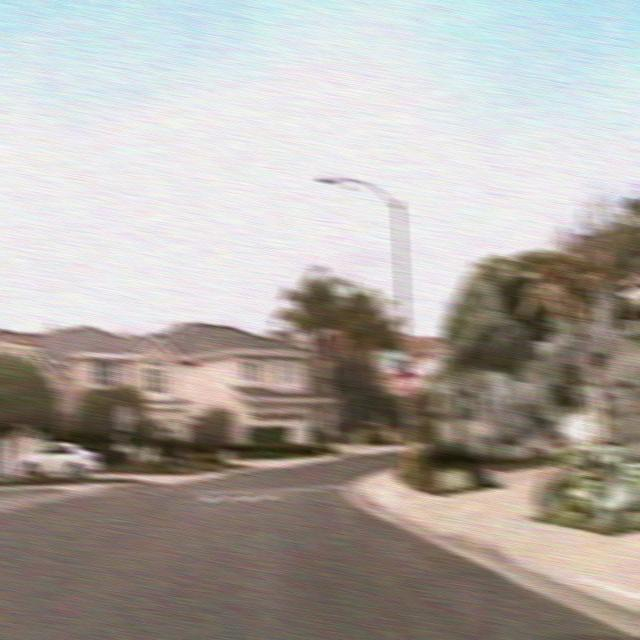stop_sign: (393, 367, 418, 396)
